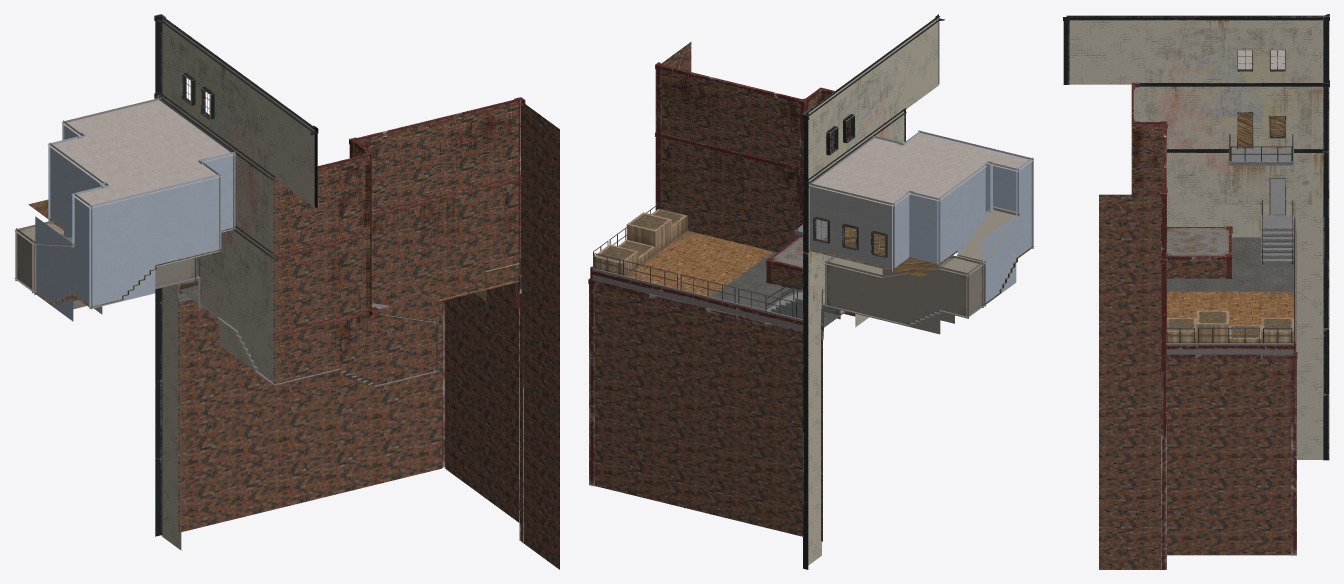
3 views of the same model, side by side, from view 1: azimuth 30°, elevation 25°; view 2: azimuth 150°, elevation 25°; view 3: azimuth 270°, elevation 25° (orthographic). The views are drawn at different scales.
Visible parts, largest first — view 1: rooftopGarden1_set2, rooftopGarden1_set1; view 2: rooftopGarden1_set2, rooftopGarden1_set1; view 3: rooftopGarden1_set2, rooftopGarden1_set1.
Part boxes in pixels (x1,y1,x2,y2): rooftopGarden1_set2: [154, 92, 559, 569]; rooftopGarden1_set1: [14, 14, 318, 392]; rooftopGarden1_set2: [588, 42, 906, 569]; rooftopGarden1_set1: [742, 14, 1034, 335]; rooftopGarden1_set2: [1099, 80, 1329, 569]; rooftopGarden1_set1: [1063, 14, 1329, 291].
Size of the model in its own units: 2622 by 3014 by 1644.
2 materials, 2 textured.
